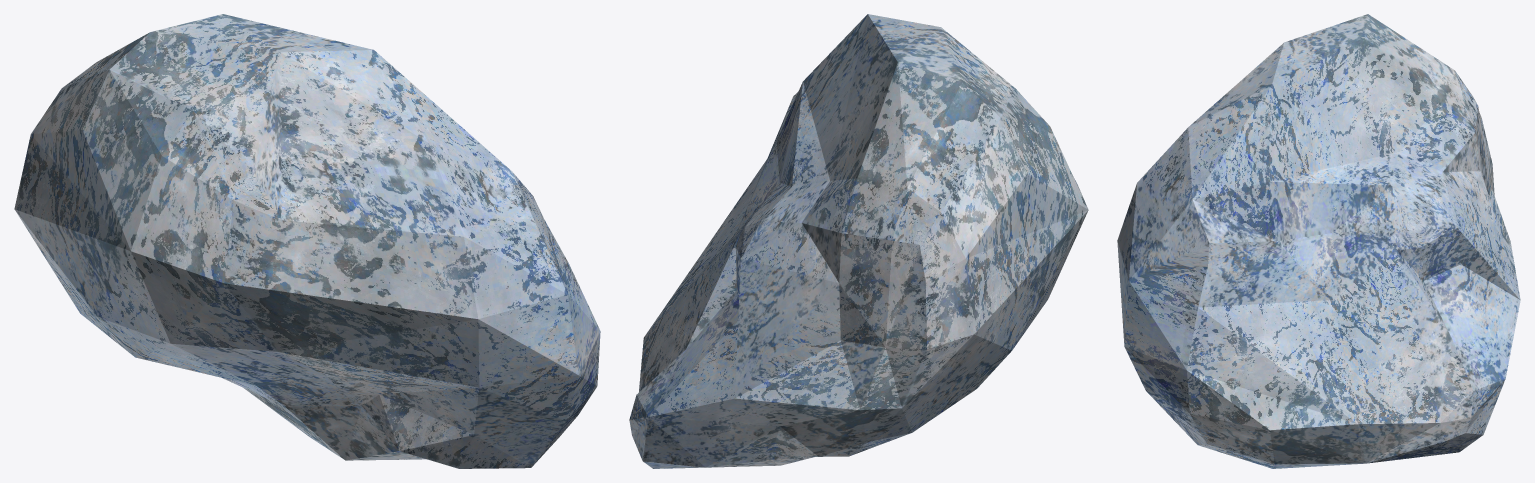
Rendered from asteroid_ice_radial_s01_l0.fbx.
The picture shows the model from 3 angles, left to right: view 1: azimuth 30°, elevation 25°; view 2: azimuth 150°, elevation 25°; view 3: azimuth 270°, elevation 25°; orthographic projection. The views are drawn at different scales.
Visible parts, largest first — view 1: mesh_node; view 2: mesh_node; view 3: mesh_node.
Part boxes in pixels (x1,y1,x2,y2): mesh_node: [14, 14, 600, 468]; mesh_node: [629, 14, 1088, 468]; mesh_node: [1117, 14, 1520, 468].
Bounding box in the file's own units: 4.15 × 4.07 × 4.23.
Materials: 1 (1 with a texture image).
